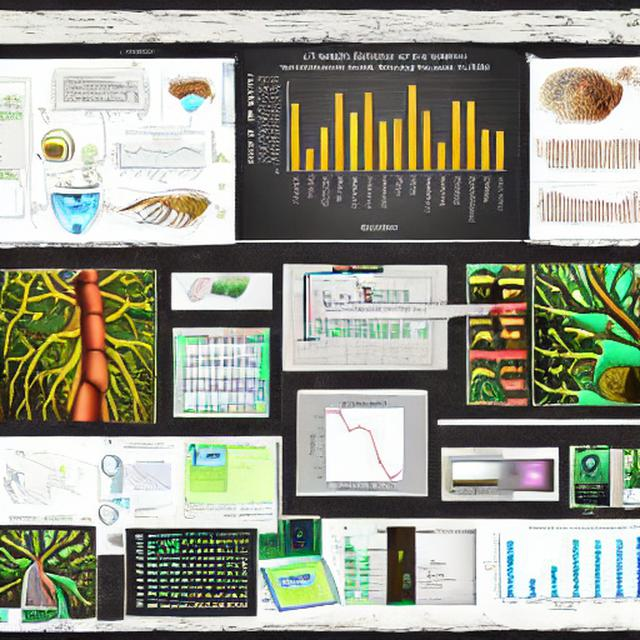Graph: (241, 47, 512, 240), (477, 524, 625, 611), (299, 396, 427, 492), (108, 129, 208, 186), (533, 181, 615, 229), (124, 456, 177, 496)
